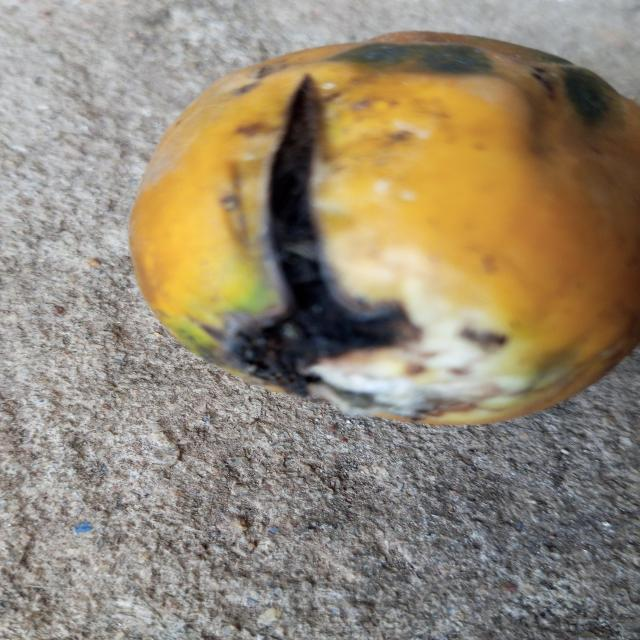damaged: (131, 32, 640, 424)
